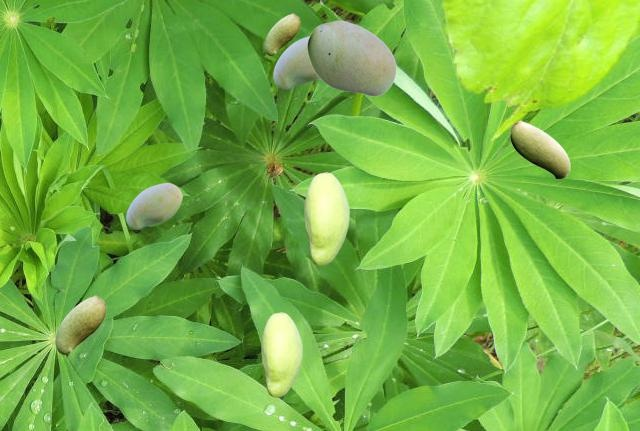green_mango: (307, 20, 395, 95), (304, 172, 348, 264), (510, 120, 569, 178), (261, 312, 301, 396), (55, 295, 105, 353), (126, 183, 181, 228), (273, 36, 319, 88), (264, 13, 299, 54)
